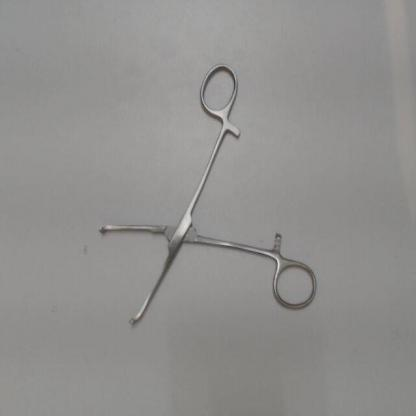Allis Tissue Forceps: (92, 54, 325, 337)
